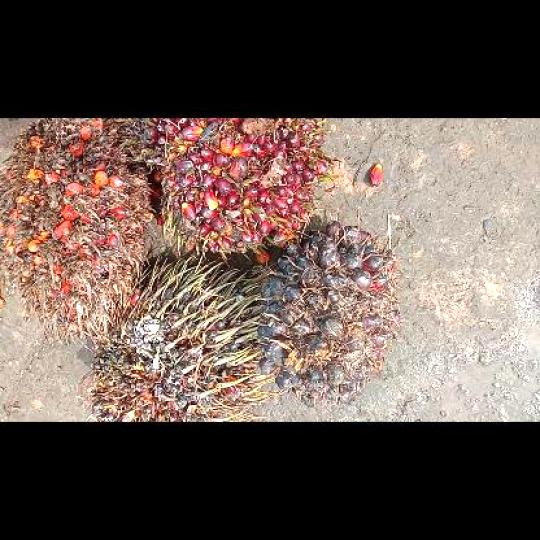masak: (157, 118, 334, 262)
terlalu masak: (0, 118, 153, 339)
